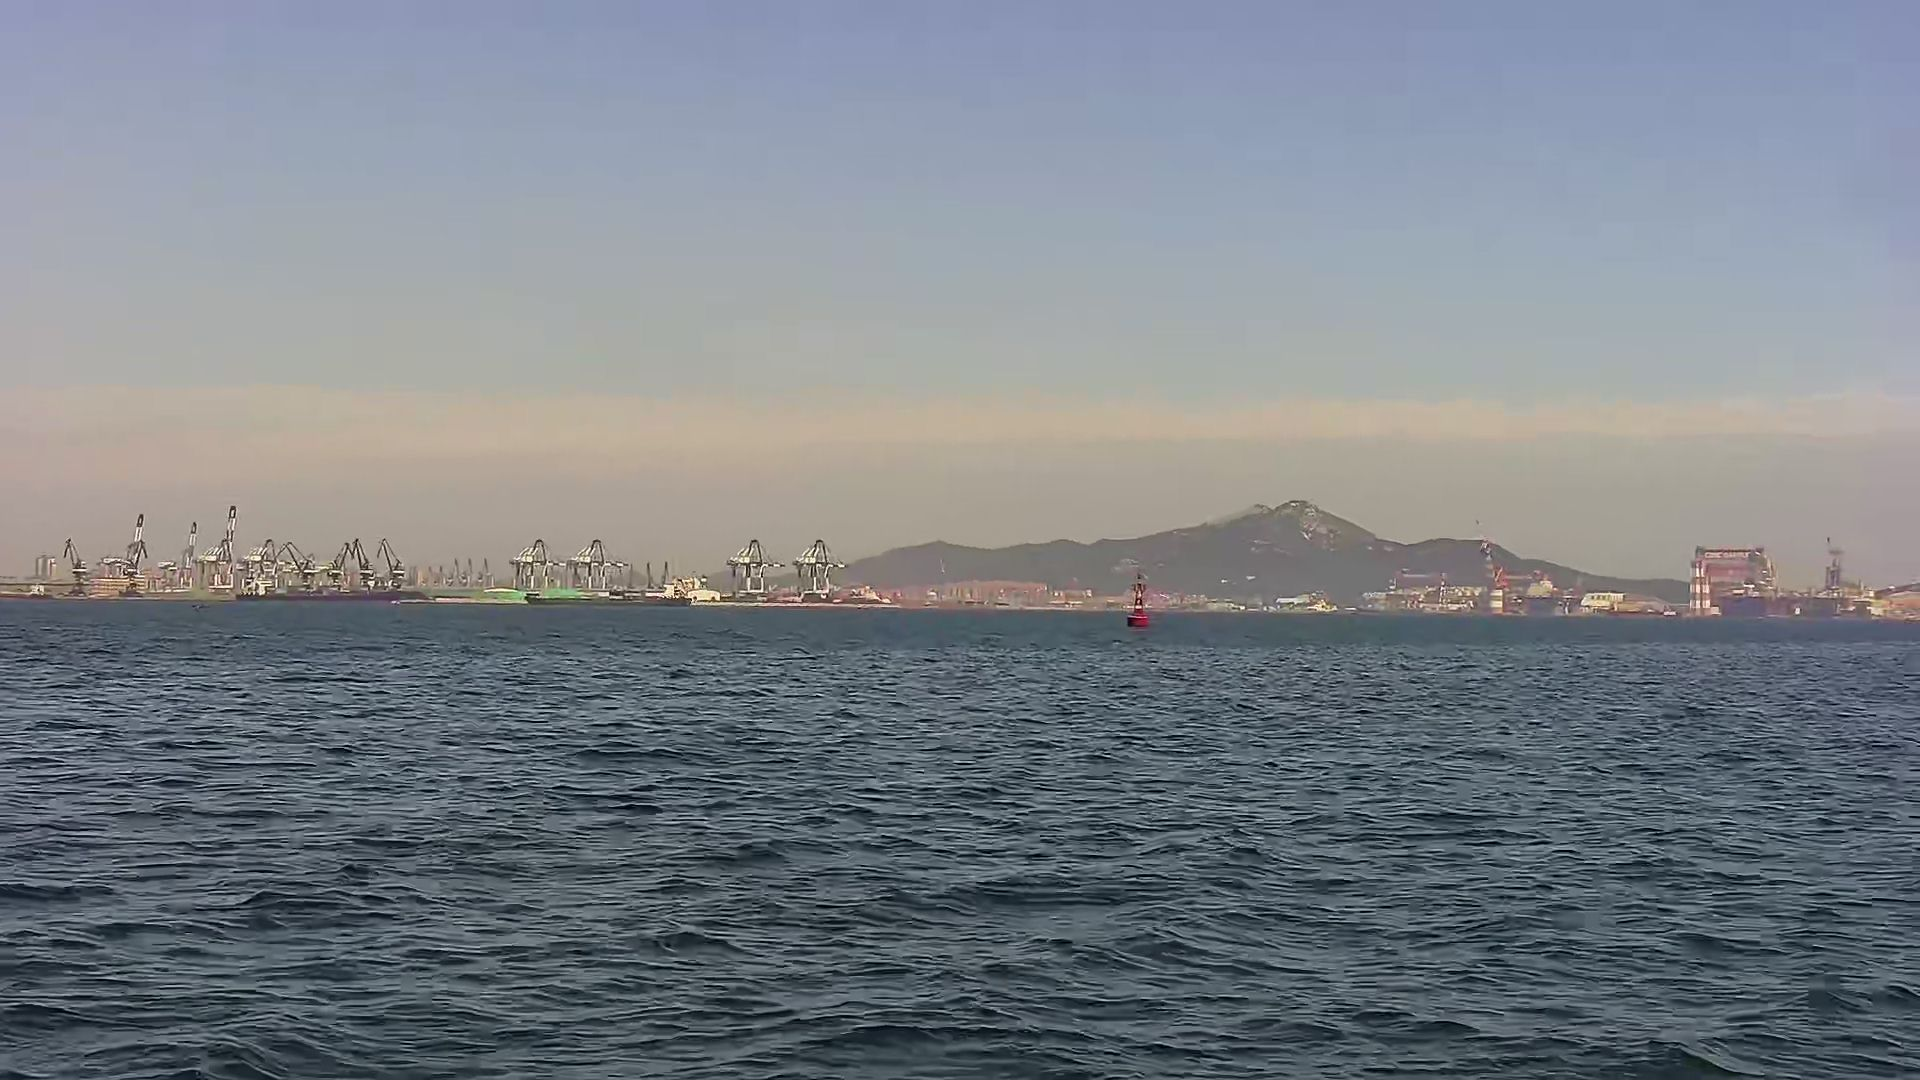buoy: (1124, 574, 1160, 628)
